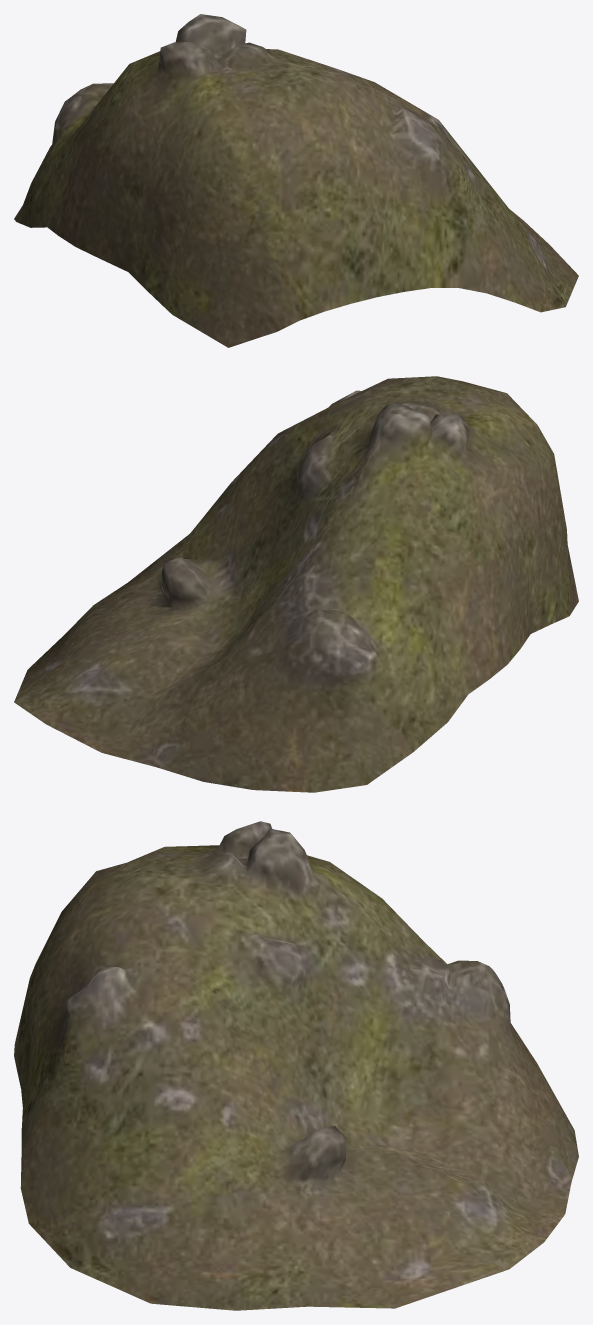
Rendered from Ruins_TerrainPile_A-transformed.glb.
3 views of the same model, one above another, from view 1: azimuth 30°, elevation 25°; view 2: azimuth 150°, elevation 25°; view 3: azimuth 270°, elevation 25° (orthographic). The views are drawn at different scales.
Parts seen in each view (by area): view 1: default; view 2: default; view 3: default.
Part boxes in pixels (<box>): default: <box>14,14,578,347</box>; default: <box>14,376,578,792</box>; default: <box>14,821,578,1310</box>.
Bounding box in the file's own units: 2.21 × 1.4 × 2.31.
1 material, 1 textured.
